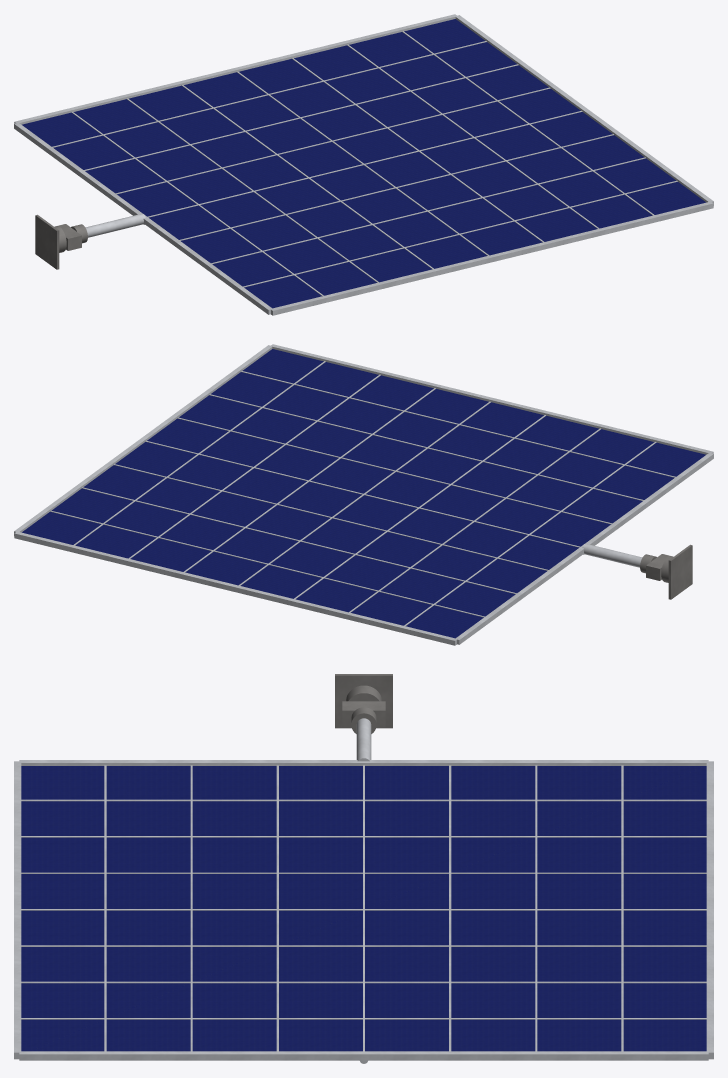
The model's file is power02_iontug_array_deployed.glb.
The picture shows the model from 3 angles, top to bottom: view 1: azimuth 30°, elevation 25°; view 2: azimuth 150°, elevation 25°; view 3: azimuth 270°, elevation 25°; orthographic projection. The views are drawn at different scales.
Parts seen in each view (by area): view 1: array_panels, frame, gimbal, boom; view 2: array_panels, frame, gimbal, boom; view 3: array_panels, frame, gimbal, boom.
Part boxes in pixels (<box>): array_panels: <box>22,19,705,308</box>; frame: <box>14,14,713,315</box>; gimbal: <box>35,214,87,269</box>; boom: <box>85,213,145,237</box>; array_panels: <box>22,349,705,638</box>; frame: <box>14,344,713,645</box>; gimbal: <box>640,544,692,599</box>; boom: <box>582,543,642,567</box>; array_panels: <box>21,766,706,1051</box>; frame: <box>14,760,713,1063</box>; gimbal: <box>335,674,392,733</box>; boom: <box>356,718,371,761</box>.
Bounding box in the file's own units: 23.3 × 1.6 × 19.3.
Materials: 3 (3 with a texture image).
